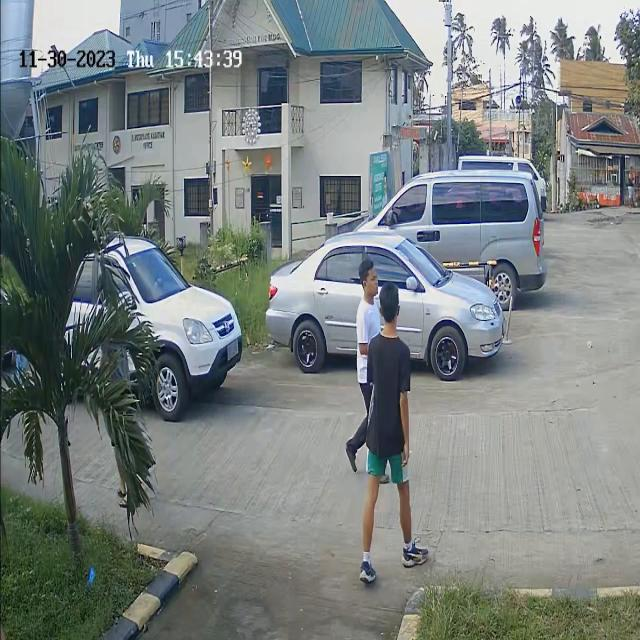person: (349, 261, 416, 451)
